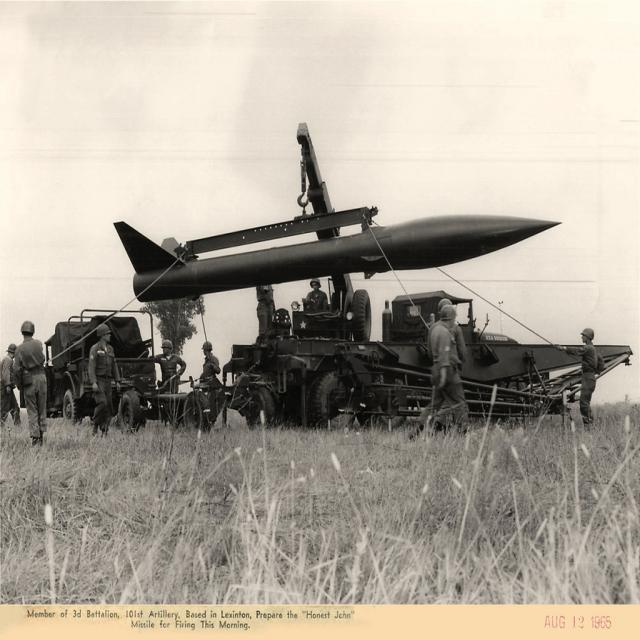missile: (114, 206, 576, 314)
